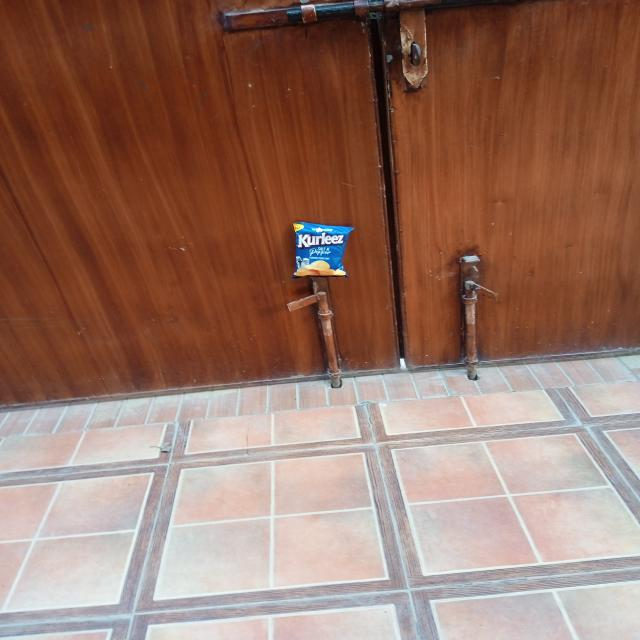Plastic: (285, 218, 363, 284)
